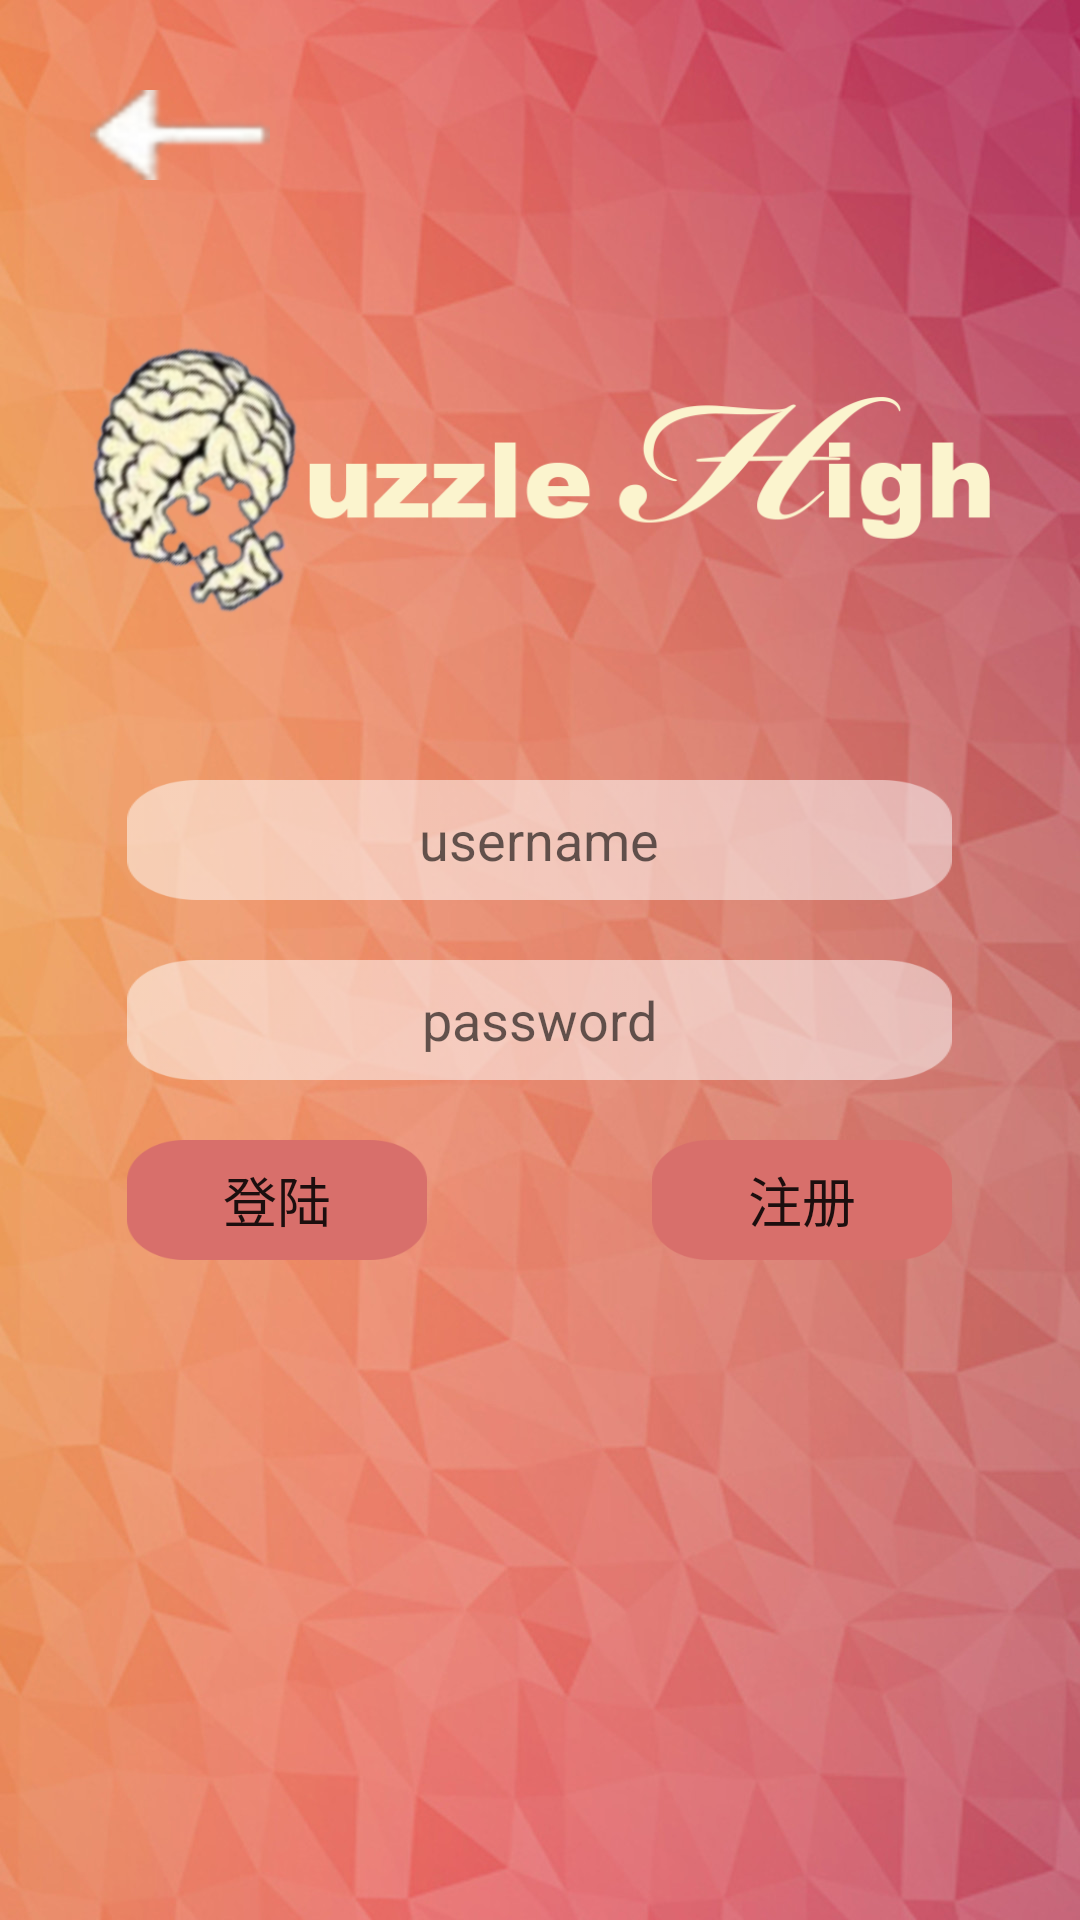

Named icons in this screenshot (1080 × 1920) and their centers, [x,y]:
back: [180,135]
